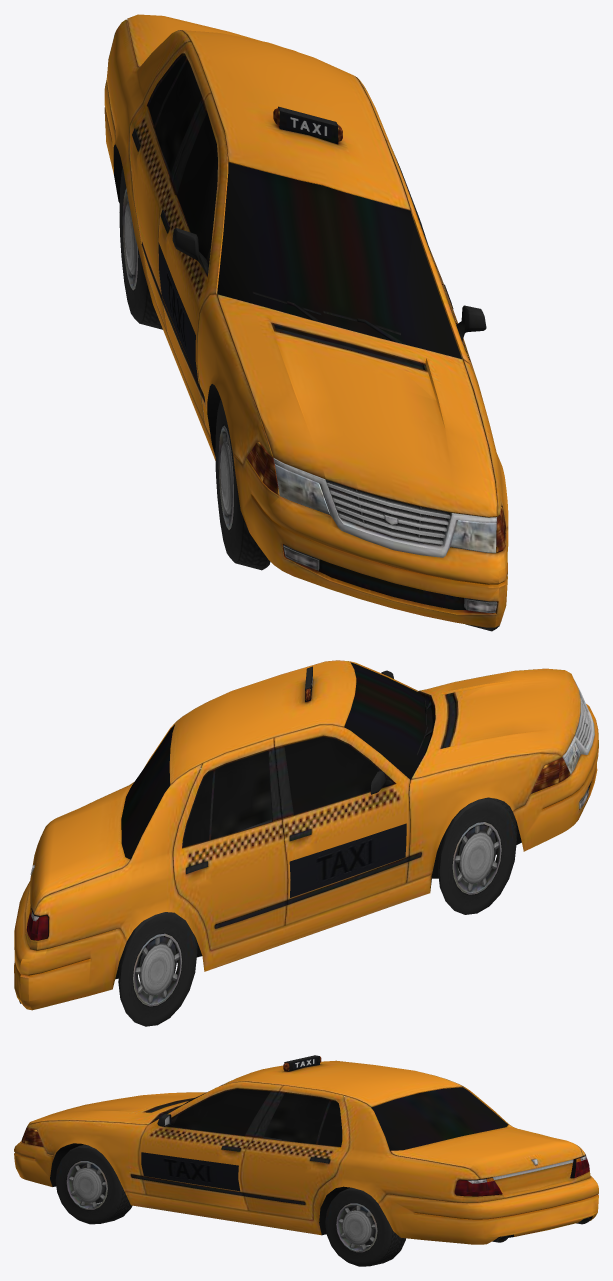
File: taxi.glb
3 renders of one model, top to bottom at view 1: azimuth 30°, elevation 25°; view 2: azimuth 150°, elevation 25°; view 3: azimuth 270°, elevation 25°, orthographic. The views are drawn at different scales.
Parts seen in each view (by area): view 1: taxi; view 2: taxi; view 3: taxi.
Boxes of the visible parts, x1,y1,x2,y2 form: taxi: (104,14,508,631); taxi: (14,660,598,1026); taxi: (14,1055,598,1266).
Bounding box in the file's own units: 1.79 × 1.45 × 4.44.
1 material, 1 textured.
